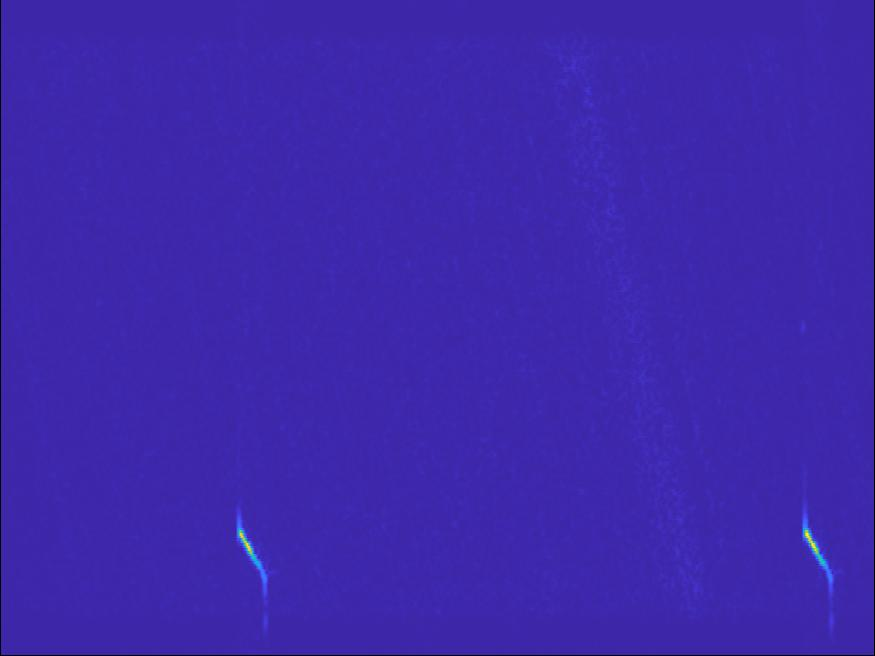Interference: (310, 284, 564, 370), (267, 471, 396, 537), (222, 2, 383, 48), (695, 303, 794, 355)
